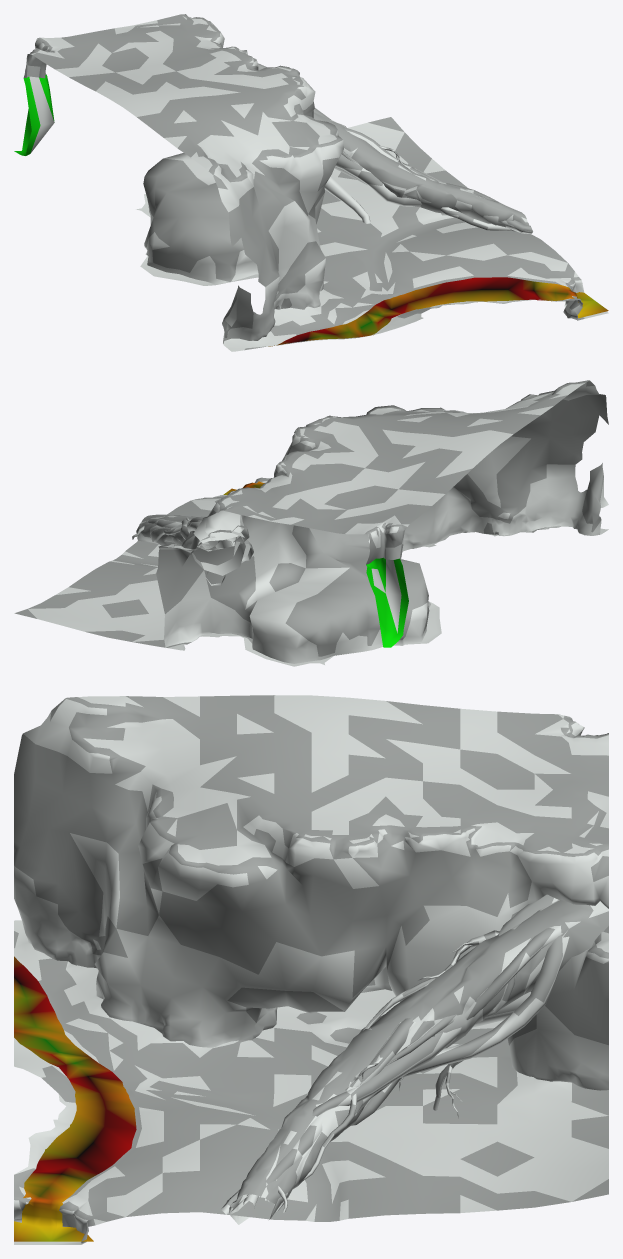
3 views of the same model, one above another, from view 1: azimuth 30°, elevation 25°; view 2: azimuth 150°, elevation 25°; view 3: azimuth 270°, elevation 25° (orthographic). The views are drawn at different scales.
Parts seen in each view (by area): view 1: G:\FFXIV-MapTools\exports\f1f1\bg\ffxiv\fst_f1\fld\f1f1\bgpl (×17); view 2: G:\FFXIV-MapTools\exports\f1f1\bg\ffxiv\fst_f1\fld\f1f1\bgpl (×15); view 3: G:\FFXIV-MapTools\exports\f1f1\bg\ffxiv\fst_f1\fld\f1f1\bgpl (×17).
Part boxes in pixels (left/top/right/bottom): G:\FFXIV-MapTools\exports\f1f1\bg\ffxiv\fst_f1\fld\f1f1\bgpl (×17): left=14, top=14, right=608, bottom=351; G:\FFXIV-MapTools\exports\f1f1\bg\ffxiv\fst_f1\fld\f1f1\bgpl (×15): left=14, top=380, right=608, bottom=666; G:\FFXIV-MapTools\exports\f1f1\bg\ffxiv\fst_f1\fld\f1f1\bgpl (×17): left=14, top=695, right=608, bottom=1244.
Size of the model in its own units: 128 by 71.34 by 128.
